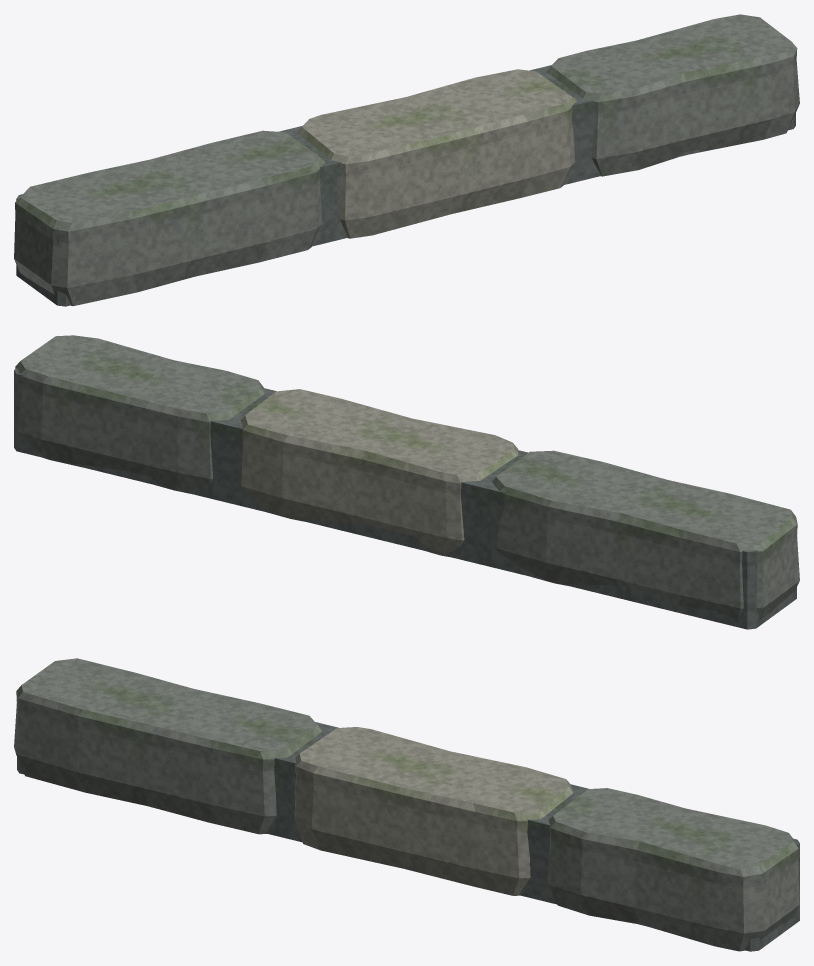
File: stair-tread.glb
3 views of the same model, one above another, from view 1: azimuth 30°, elevation 25°; view 2: azimuth 150°, elevation 25°; view 3: azimuth 330°, elevation 25° (orthographic).
Parts seen in each view (by area): view 1: Hand-dressed granite nosing, three individual voussoirs and ; view 2: Hand-dressed granite nosing, three individual voussoirs and ; view 3: Hand-dressed granite nosing, three individual voussoirs and .
Part boxes in pixels (box(x1,y1,x2,y2)): Hand-dressed granite nosing, three individual voussoirs and : box(14, 14, 799, 306); Hand-dressed granite nosing, three individual voussoirs and : box(14, 335, 799, 629); Hand-dressed granite nosing, three individual voussoirs and : box(14, 658, 799, 951).
Size of the model in its own units: 3 by 0.32 by 0.38.
1 material, 1 textured.
